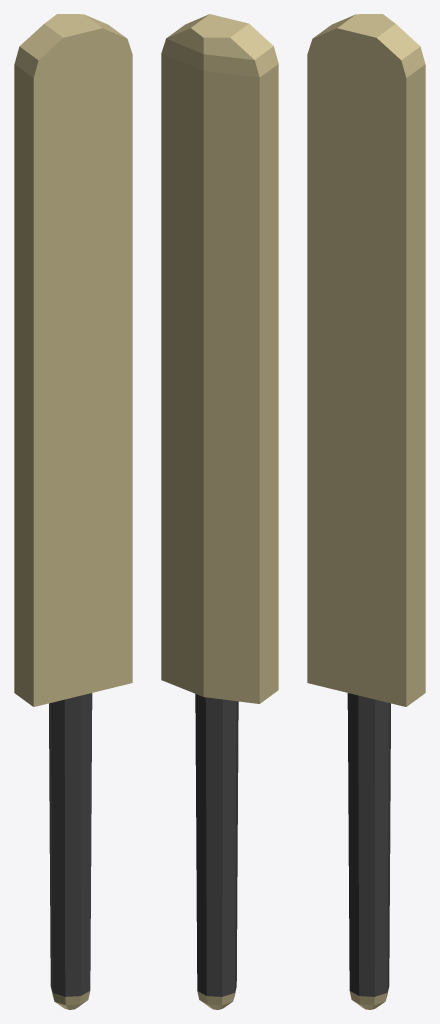
File: Cricket Bat.fbx
3 renders of one model, left to right at view 1: azimuth 30°, elevation 25°; view 2: azimuth 150°, elevation 25°; view 3: azimuth 330°, elevation 25°, orthographic.
Parts seen in each view (by area): view 1: Cricket Bat; view 2: Cricket Bat; view 3: Cricket Bat.
Boxes of the visible parts, x1,y1,x2,y2 form: Cricket Bat: (14,14,132,1009); Cricket Bat: (161,14,278,1009); Cricket Bat: (307,14,425,1009).
Size of the model in its own units: 100 by 951 by 45.6.
